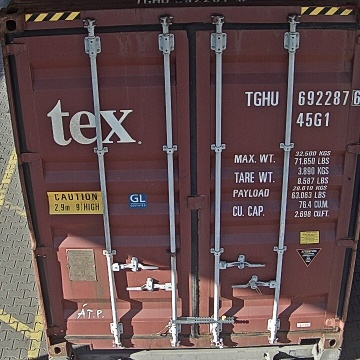serial_id: (245, 90, 360, 105)
